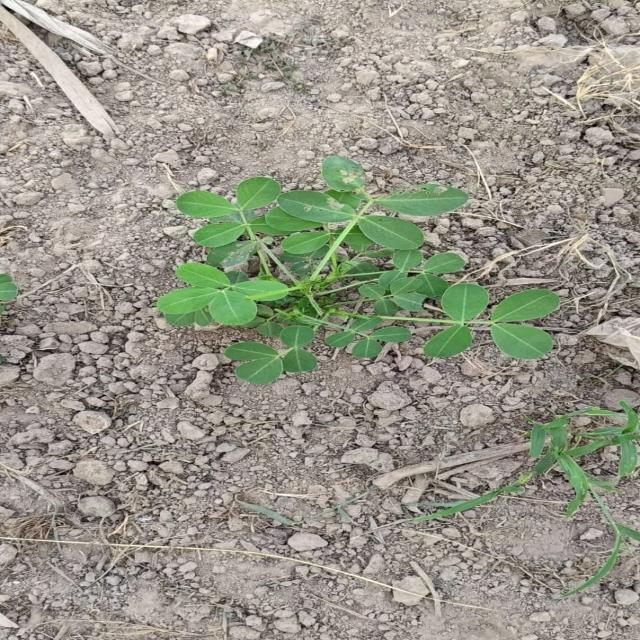plant: (156, 156, 559, 384)
